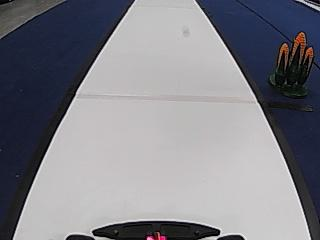corn: (265, 30, 316, 93)
